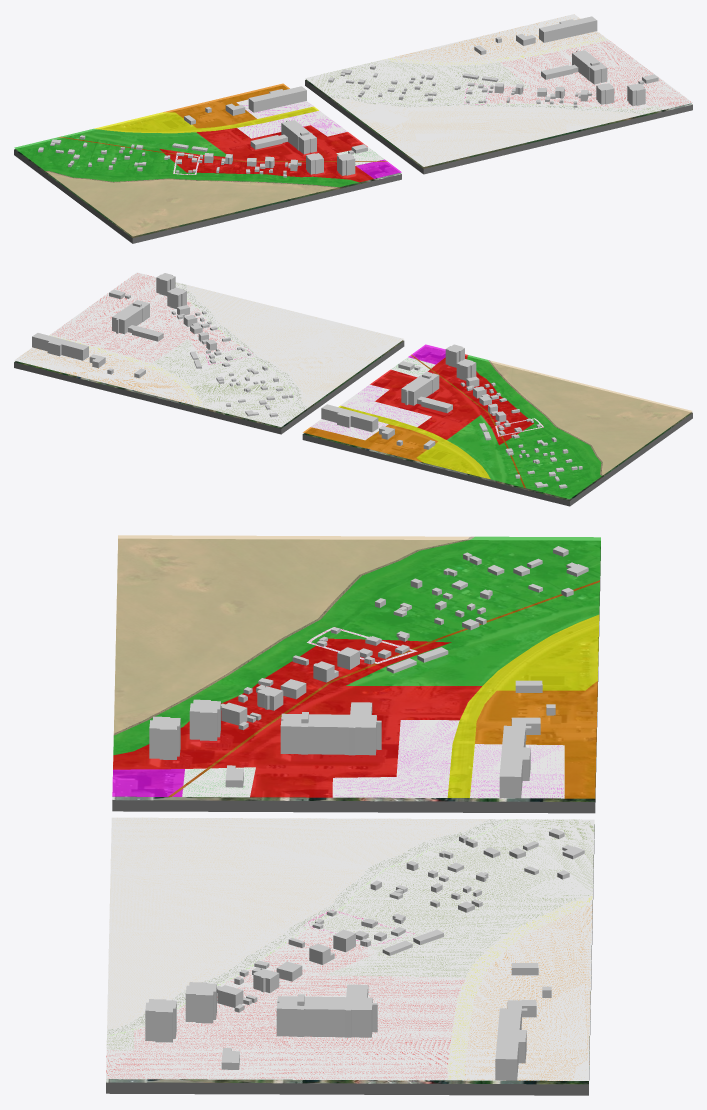
The model's file is WelzowerStr.dae.
The picture shows the model from 3 angles, top to bottom: view 1: azimuth 30°, elevation 25°; view 2: azimuth 150°, elevation 25°; view 3: azimuth 270°, elevation 25°; orthographic projection. The views are drawn at different scales.
Visible parts, largest first — view 1: SketchUp (×4), group_0 (×7), instance_1 (×11), BuildingPart143.lod1Solid (×2), BuildingPart125.lod1Solid (×2), Building93.lod1Solid (×2), Building134.lod1Solid; view 2: SketchUp (×4), group_0 (×6), instance_1 (×10), BuildingPart143.lod1Solid (×2), BuildingPart125.lod1Solid (×2), Building134.lod1Solid; view 3: SketchUp (×4), instance_1 (×13), group_0 (×7), BuildingPart143.lod1Solid (×2), Building93.lod1Solid (×2), Building134.lod1Solid (×2), BuildingPart126.lod1Solid (×2).
Boxes of the visible parts, left/top/right/bottom form: SketchUp (×4): left=14, top=79, right=692, bottom=243; group_0 (×7): left=305, top=14, right=692, bottom=166; instance_1 (×11): left=14, top=83, right=401, bottom=236; BuildingPart143.lod1Solid (×2): left=281, top=50, right=607, bottom=154; BuildingPart125.lod1Solid (×2): left=248, top=20, right=578, bottom=112; Building93.lod1Solid (×2): left=337, top=83, right=645, bottom=175; Building134.lod1Solid: left=596, top=83, right=614, bottom=104; SketchUp (×4): left=14, top=340, right=692, bottom=506; group_0 (×6): left=14, top=272, right=403, bottom=426; instance_1 (×10): left=303, top=344, right=692, bottom=498; BuildingPart143.lod1Solid (×2): left=112, top=300, right=439, bottom=405; BuildingPart125.lod1Solid (×2): left=50, top=337, right=378, bottom=432; Building134.lod1Solid: left=456, top=359, right=476, bottom=381; SketchUp (×4): left=106, top=539, right=600, bottom=1095; instance_1 (×13): left=112, top=535, right=600, bottom=798; group_0 (×7): left=106, top=817, right=594, bottom=1080; BuildingPart143.lod1Solid (×2): left=276, top=713, right=381, bottom=1037; Building93.lod1Solid (×2): left=145, top=716, right=180, bottom=1042; Building134.lod1Solid (×2): left=185, top=699, right=220, bottom=1023; BuildingPart126.lod1Solid (×2): left=495, top=759, right=522, bottom=1080.
Size of the model in its own units: 29677 by 11378 by 1213.
Materials: 15 (1 with a texture image).
